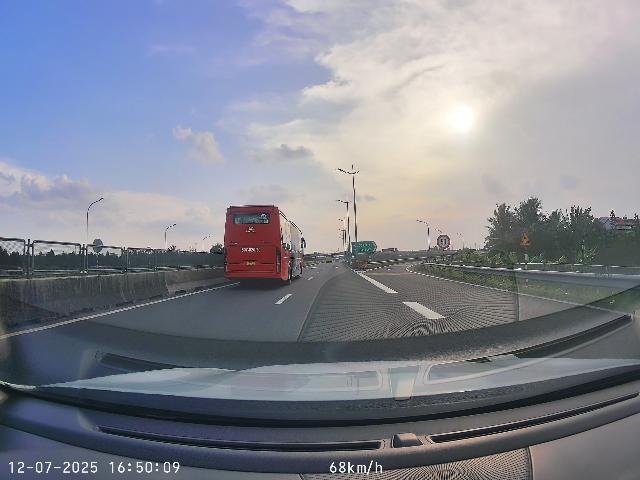127-toc-do-toi-da-50: (437, 235, 451, 249)
